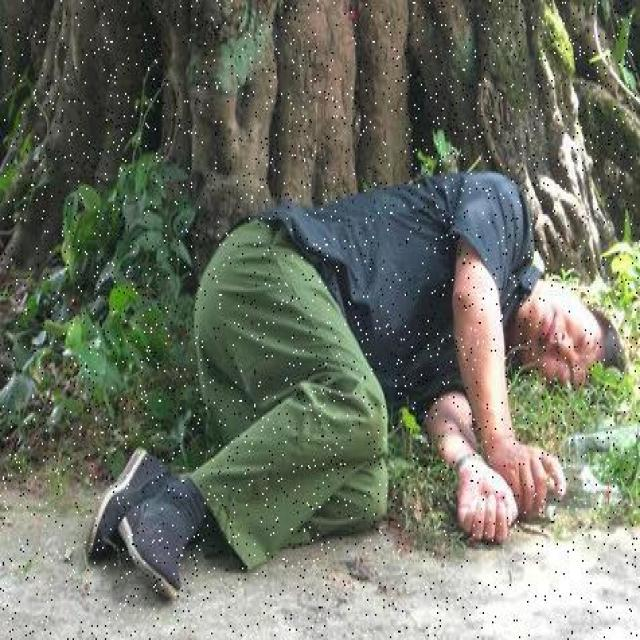fall: (92, 178, 600, 580)
